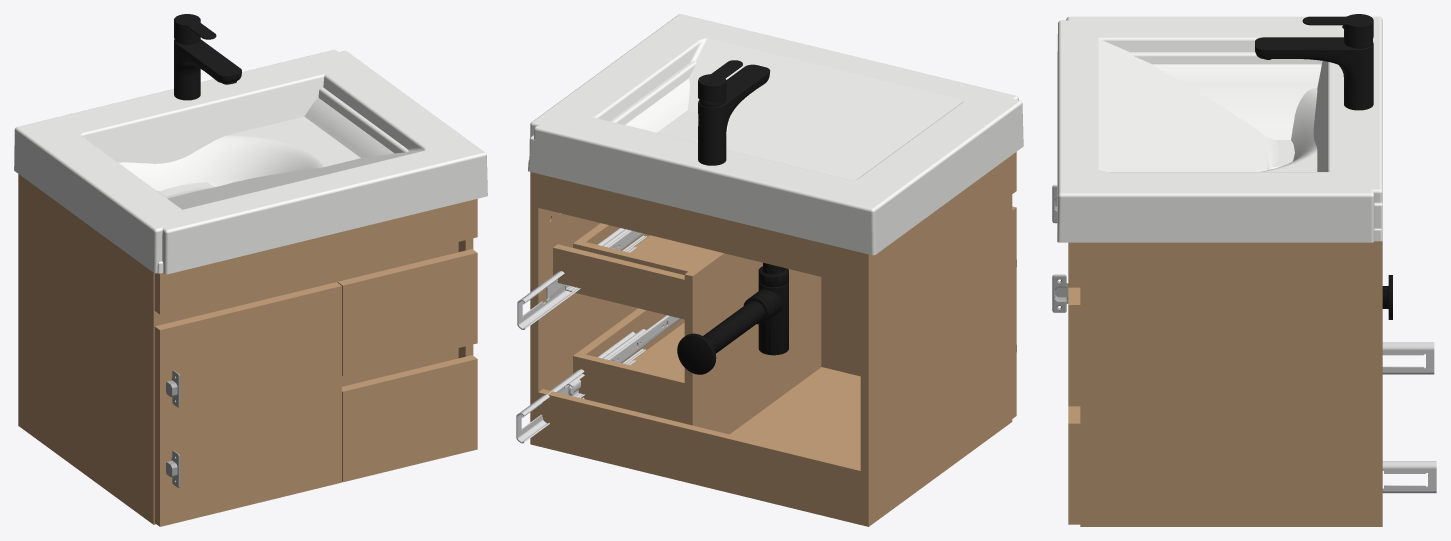
The model's file is vitelli-63.glb.
The picture shows the model from 3 angles, left to right: view 1: azimuth 30°, elevation 25°; view 2: azimuth 150°, elevation 25°; view 3: azimuth 270°, elevation 25°; orthographic projection. The views are drawn at different scales.
Visible parts, largest first — view 1: Lavamanos_genova, Carcasa, Puerta, CajonSuperior, CajonInferior, Lavamanos_parma, Grifo, Lavamanos_siena, Lavamanos_oslo, Bisagras; view 2: Carcasa, Lavamanos_genova, Lavamanos_siena, CajonInferior, Lavamanos_oslo, CajonSuperior, Sifon, Puerta, Grifo, Lavamanos_parma; view 3: Carcasa, Lavamanos_genova, Lavamanos_siena, Grifo, CajonSuperior, CajonInferior, Lavamanos_parma, Lavamanos_oslo, Bisagras.
Boxes of the visible parts, x1=… form: Lavamanos_genova: x1=14, y1=49, x2=487, y2=274; Carcasa: x1=18, y1=174, x2=477, y2=524; Puerta: x1=154, y1=282, x2=341, y2=526; CajonSuperior: x1=337, y1=249, x2=477, y2=375; CajonInferior: x1=342, y1=355, x2=477, y2=482; Lavamanos_parma: x1=118, y1=116, x2=360, y2=273; Grifo: x1=174, y1=14, x2=241, y2=100; Lavamanos_siena: x1=156, y1=98, x2=393, y2=198; Lavamanos_oslo: x1=318, y1=87, x2=408, y2=153; Bisagras: x1=166, y1=370, x2=179, y2=487; Carcasa: x1=530, y1=152, x2=1016, y2=526; Lavamanos_genova: x1=530, y1=14, x2=1023, y2=255; Lavamanos_siena: x1=529, y1=78, x2=868, y2=253; CajonInferior: x1=516, y1=308, x2=684, y2=443; Lavamanos_oslo: x1=558, y1=61, x2=868, y2=254; CajonSuperior: x1=517, y1=223, x2=715, y2=329; Sifon: x1=677, y1=263, x2=788, y2=374; Puerta: x1=821, y1=206, x2=1016, y2=418; Grifo: x1=698, y1=60, x2=770, y2=165; Lavamanos_parma: x1=528, y1=110, x2=728, y2=171; Carcasa: x1=1068, y1=241, x2=1382, y2=526; Lavamanos_genova: x1=1057, y1=16, x2=1382, y2=242; Lavamanos_siena: x1=1153, y1=64, x2=1382, y2=238; Grifo: x1=1255, y1=14, x2=1373, y2=110; CajonSuperior: x1=1068, y1=287, x2=1434, y2=406; CajonInferior: x1=1068, y1=406, x2=1436, y2=524; Lavamanos_parma: x1=1261, y1=88, x2=1382, y2=241; Lavamanos_oslo: x1=1129, y1=52, x2=1378, y2=202; Bisagras: x1=1052, y1=185, x2=1068, y2=312.
Bounding box in the file's own units: 0.6448 × 0.7007 × 0.582.
